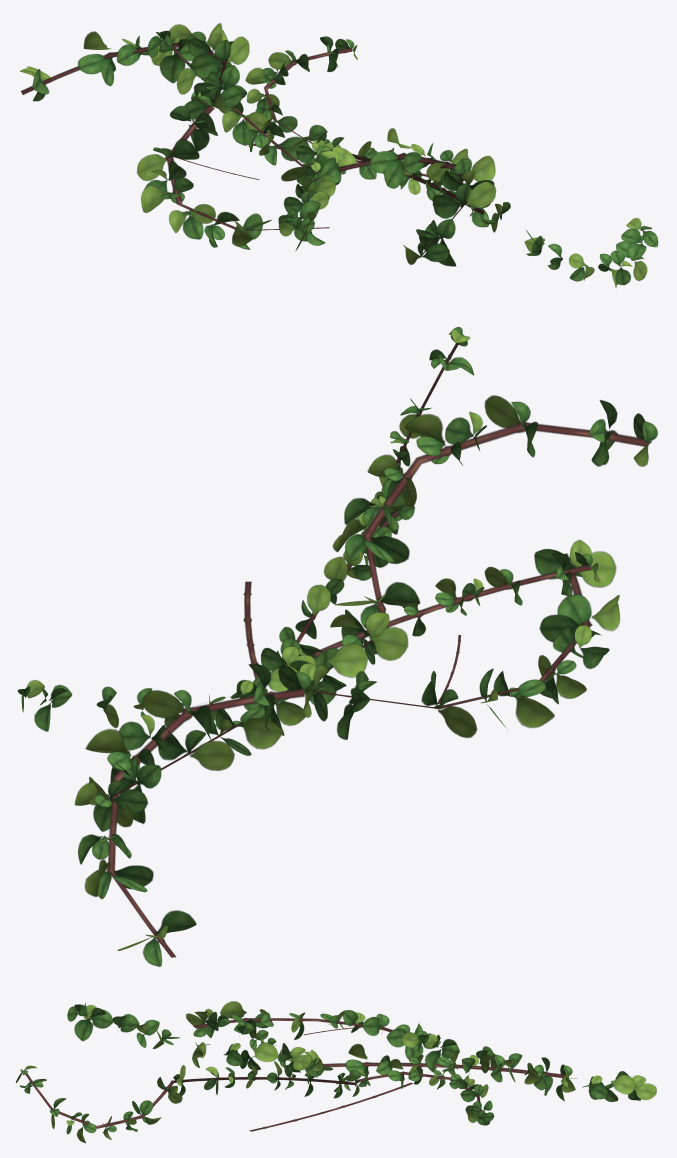
File: ivy-1.glb
3 renders of one model, top to bottom at view 1: azimuth 30°, elevation 25°; view 2: azimuth 150°, elevation 25°; view 3: azimuth 270°, elevation 25°, orthographic. The views are drawn at different scales.
Parts seen in each view (by area): view 1: Plant02; view 2: Plant02; view 3: Plant02.
Part boxes in pixels (x1=…): Plant02: x1=20, y1=23, x2=658, y2=287; Plant02: x1=17, y1=327, x2=657, y2=966; Plant02: x1=16, y1=1001, x2=656, y2=1143.
Bounding box in the file's own units: 0.376 × 0.1843 × 0.9016.
Materials: 1 (1 with a texture image).
